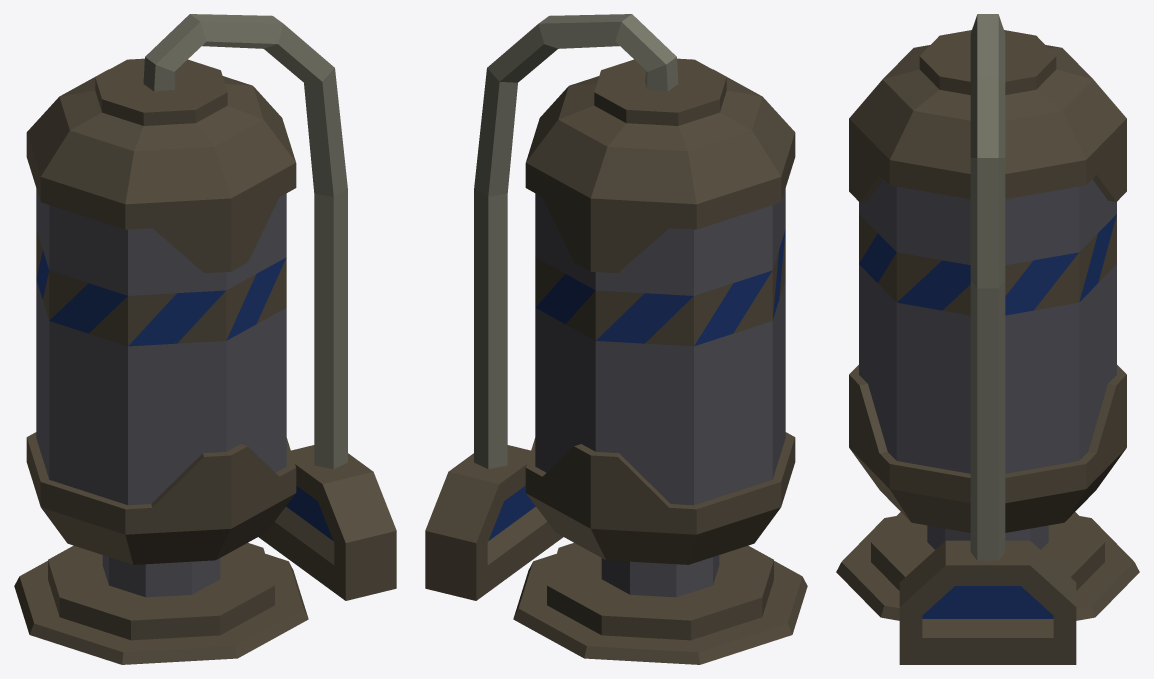
The model's file is LPSciFiCharacter_FractionalColumnB.fbx.
3 views of the same model, side by side, from view 1: azimuth 30°, elevation 25°; view 2: azimuth 150°, elevation 25°; view 3: azimuth 270°, elevation 25° (orthographic).
Visible parts, largest first — view 1: FractionalColumnB; view 2: FractionalColumnB; view 3: FractionalColumnB.
Boxes of the visible parts, box(x1,y1,x2,y2) form: FractionalColumnB: box(14, 14, 396, 664); FractionalColumnB: box(425, 14, 807, 664); FractionalColumnB: box(836, 14, 1139, 664).
Bounding box in the file's own units: 245 × 417 × 200.
